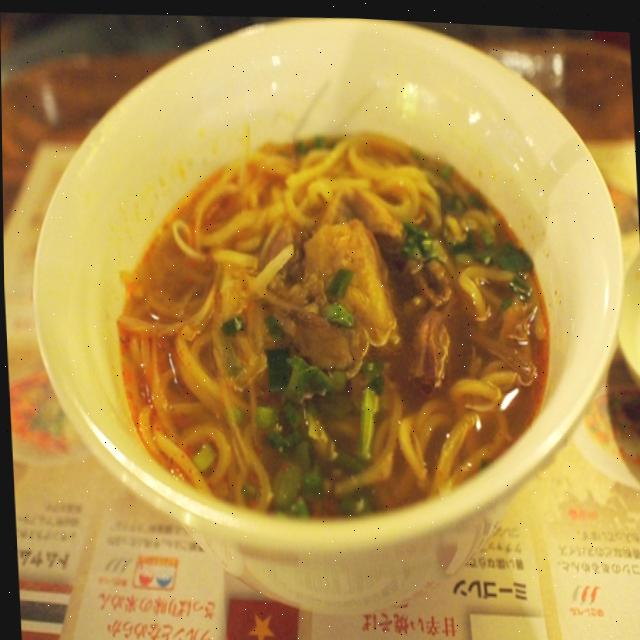面条主食: (24, 1, 632, 603)
